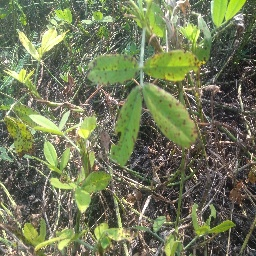GroundNut_Leaf: (146, 81, 196, 149), (110, 83, 143, 171), (89, 52, 138, 83), (144, 52, 197, 80), (81, 174, 111, 191), (77, 114, 98, 138), (211, 1, 229, 27), (42, 141, 59, 168), (41, 26, 59, 51)
